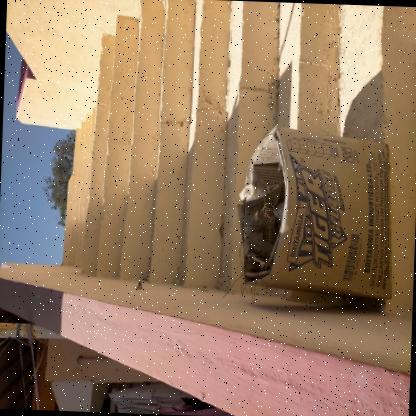stair: (43, 44, 416, 270)
